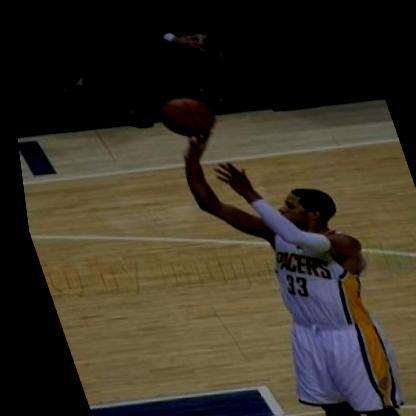basketball: (145, 72, 229, 148)
